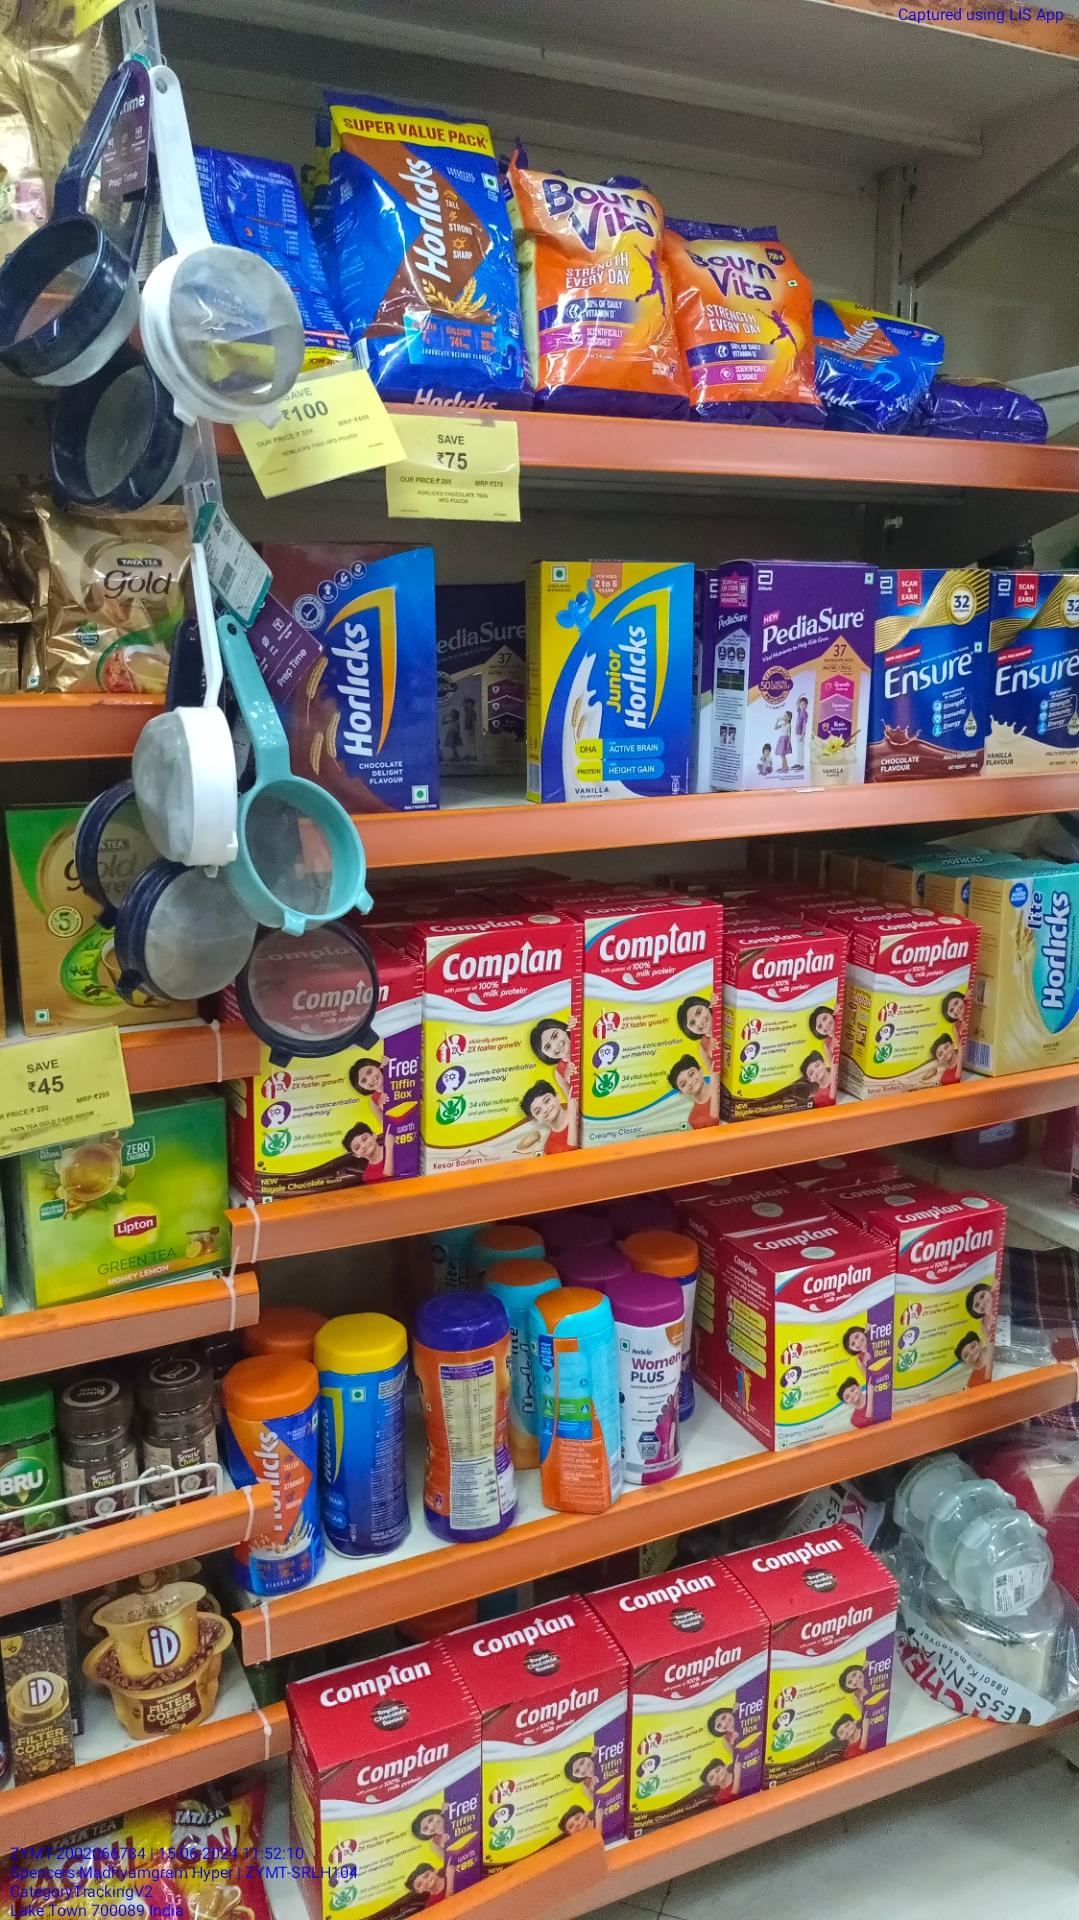BOURN_VITA_750_G_POUCH: (524, 162, 682, 409), (691, 222, 818, 414)
COMPLAN_CHOCOLATE_200_GMS_PACK: (736, 948, 839, 1117)
COMPLAN_CHOCOLATE_500_GMS_PACK: (322, 1746, 484, 1915), (489, 1698, 629, 1849), (772, 1613, 892, 1783), (634, 1652, 761, 1811)
COMPLAN_CREAMY_CLASSIC_500_G_PACK: (587, 910, 723, 1130), (773, 1273, 892, 1433), (897, 1226, 995, 1410)
COMPLAN_KESAR_BADAM_200_GMS_PACK: (867, 936, 964, 1096)
COMPLAN_KESAR_BADAM_500_GMS_PACK: (425, 935, 579, 1156)
HORLICK_CHOCOLATE_750_G_POUCH: (355, 99, 508, 406)
PEDIASURE_VANILLA_500_G_PACK: (748, 562, 865, 790)
